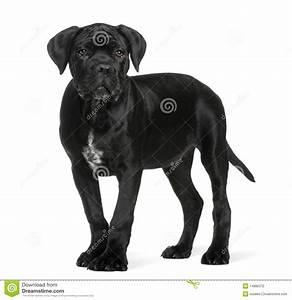dog: (46, 22, 255, 271)
